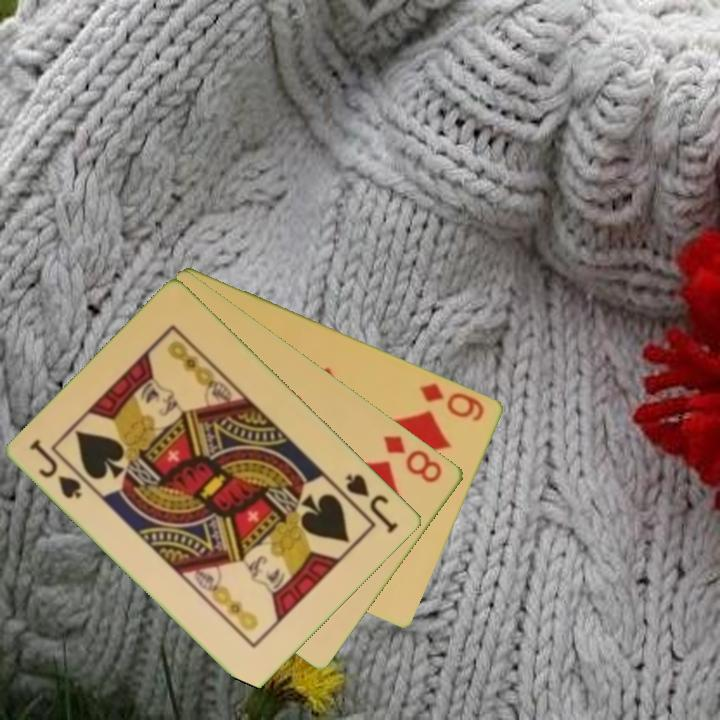6d: (416, 379, 488, 425)
8d: (380, 431, 446, 486)
Js: (342, 470, 402, 537), (26, 435, 86, 502)
